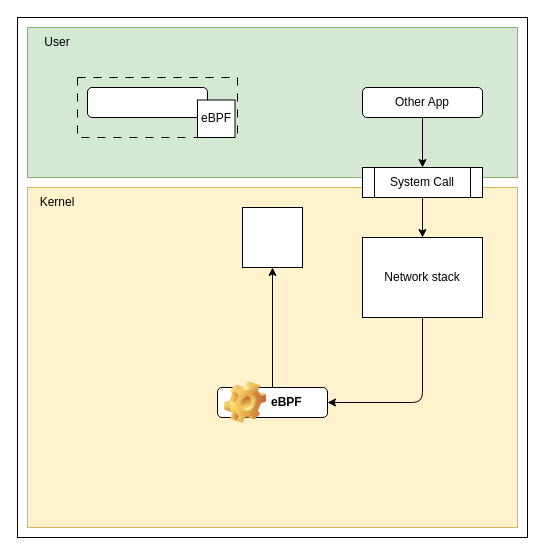
This 545x555 diagram has some shape labels left out. Here are the shapes that lost their labels. From the top down, the centre of each, then its label:
At point 147,102: "App".
At point 272,237: "Maps".
